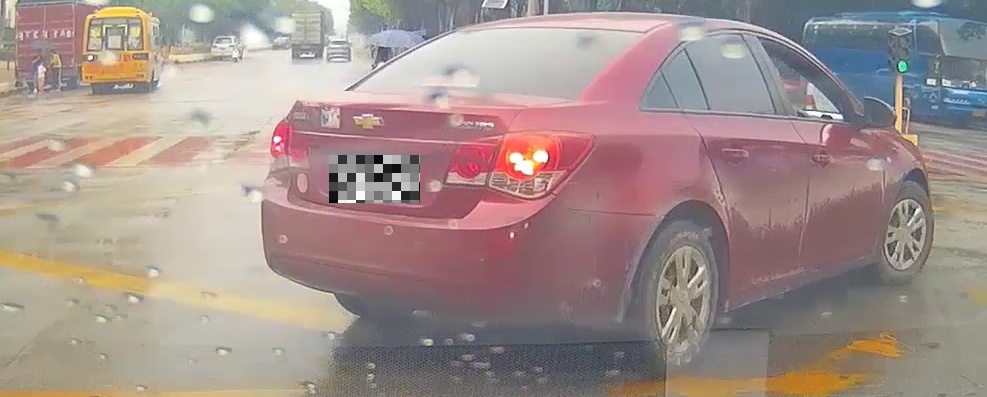L_light: (267, 119, 313, 172), (83, 54, 97, 61)
R_light: (444, 130, 595, 200), (132, 53, 148, 60)
T_light: (424, 78, 477, 87), (108, 17, 122, 20)
day-left: (81, 6, 151, 94)
day-right: (260, 10, 656, 325)
plate_1: (329, 155, 420, 203)
